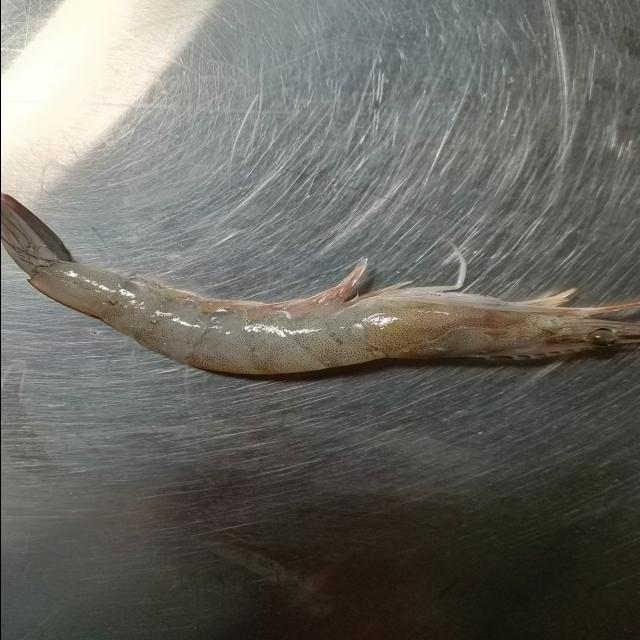shrimp: (0, 188, 640, 375)
